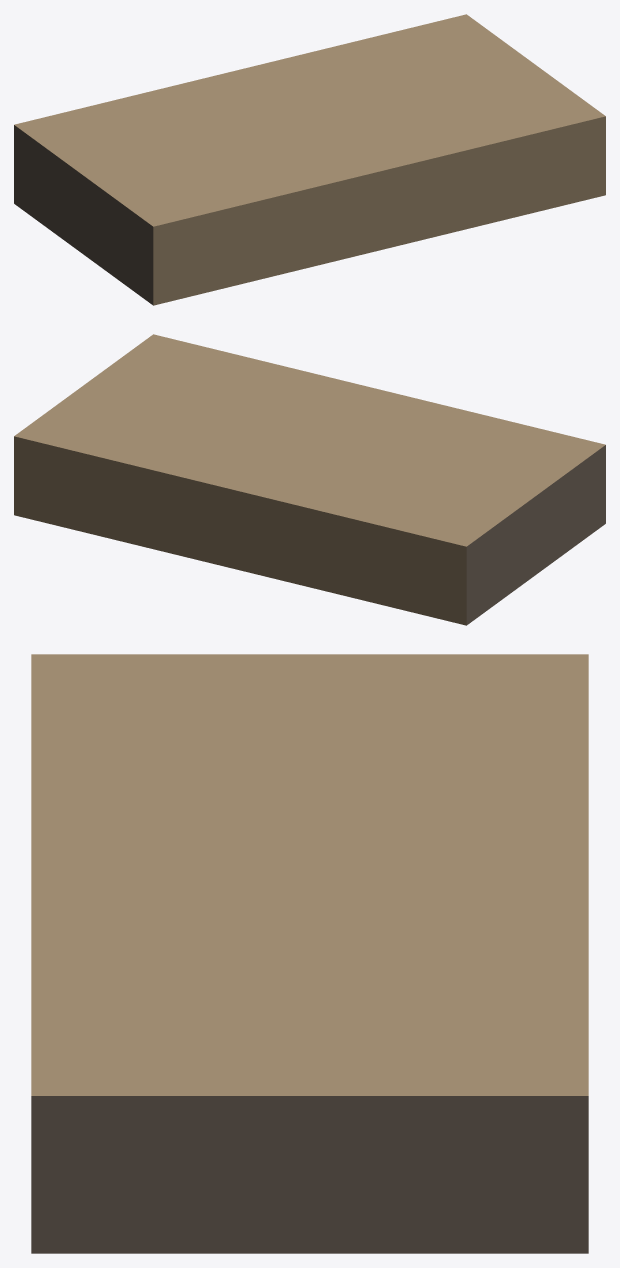
Rendered from TB_D_Bd_DoorStep_A.FBX.
3 views of the same model, one above another, from view 1: azimuth 30°, elevation 25°; view 2: azimuth 150°, elevation 25°; view 3: azimuth 270°, elevation 25° (orthographic). The views are drawn at different scales.
Parts seen in each view (by area): view 1: TB_D_Bd_DoorStep_A; view 2: TB_D_Bd_DoorStep_A; view 3: TB_D_Bd_DoorStep_A.
Boxes of the visible parts, x1=… form: TB_D_Bd_DoorStep_A: x1=14, y1=14, x2=605, y2=305; TB_D_Bd_DoorStep_A: x1=14, y1=334, x2=605, y2=625; TB_D_Bd_DoorStep_A: x1=31, y1=654, x2=588, y2=1253.
Bounding box in the file's own units: 1.5 × 0.25 × 0.8.
